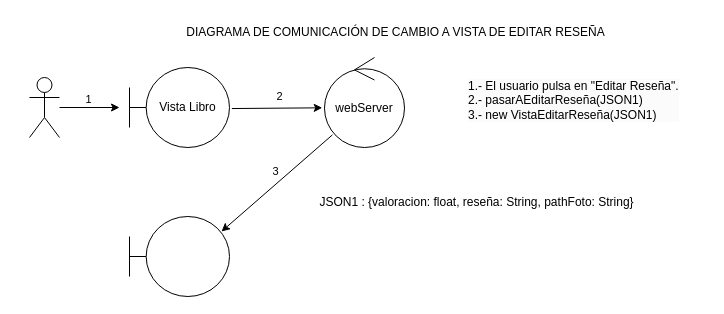
Image size: 724x314. Some labels were removed from this diagram. The shapes that lost their labels are listed below. From the top down, each one's centre as x and y in pixels, then its label:
At (44,107): "USUARIO".
At (179,256): "Vista Editar Reseña".
